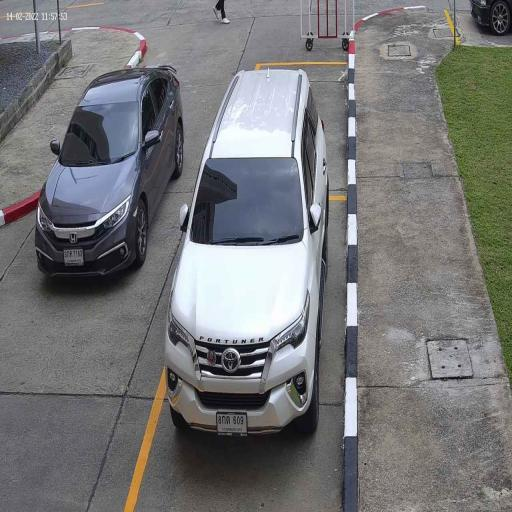car: (163, 67, 330, 449), (34, 63, 186, 282)
